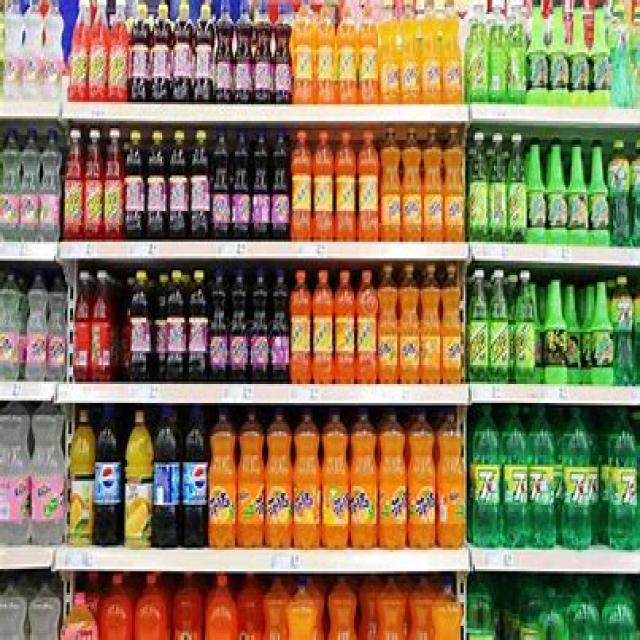7up: (469, 420, 507, 550), (564, 428, 598, 551), (532, 420, 564, 550), (604, 426, 640, 539)
Coke: (178, 423, 214, 548), (95, 420, 126, 542)
fanta: (379, 417, 409, 556), (438, 418, 468, 552), (320, 411, 350, 543), (442, 132, 469, 247), (379, 129, 403, 245), (272, 424, 291, 556), (377, 10, 401, 108), (424, 140, 445, 233), (426, 10, 446, 103)
